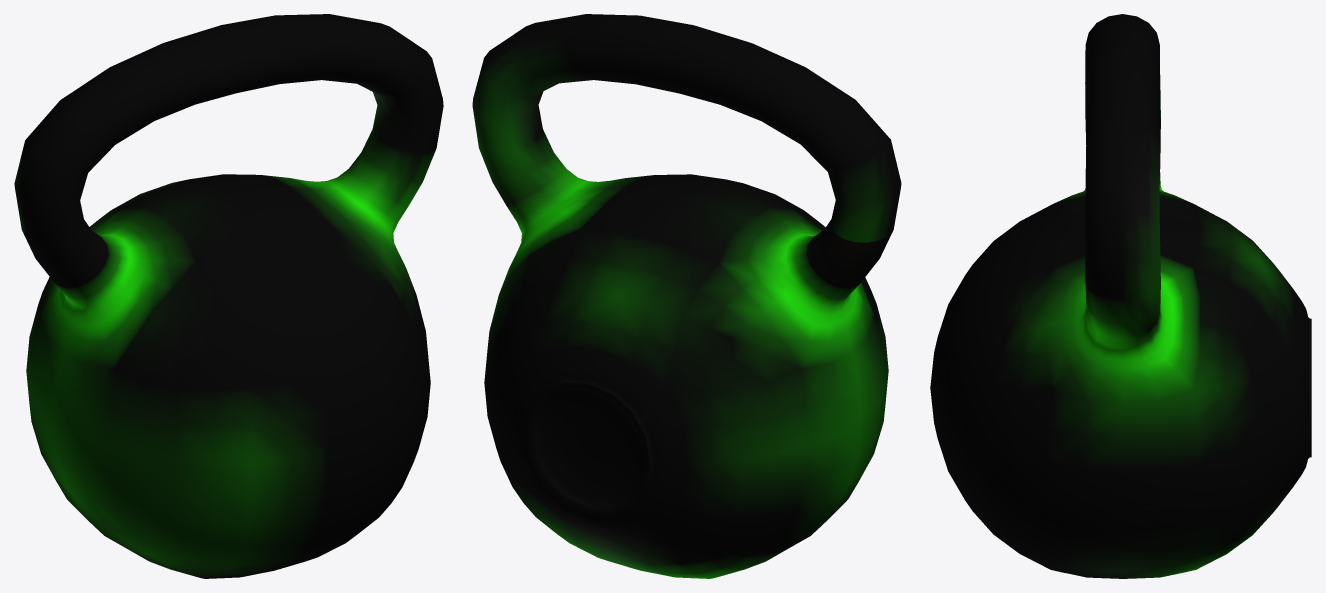
Rendered from Kettlebell.fbx.
3 renders of one model, left to right at view 1: azimuth 30°, elevation 25°; view 2: azimuth 150°, elevation 25°; view 3: azimuth 270°, elevation 25°, orthographic. The views are drawn at different scales.
Visible parts, largest first — view 1: Kettlebell 32kg/53Lbs.001; view 2: Kettlebell 32kg/53Lbs.001; view 3: Kettlebell 32kg/53Lbs.001.
Boxes of the visible parts, left/top/right/bottom form: Kettlebell 32kg/53Lbs.001: left=14, top=14, right=443, bottom=578; Kettlebell 32kg/53Lbs.001: left=472, top=14, right=901, bottom=578; Kettlebell 32kg/53Lbs.001: left=930, top=14, right=1311, bottom=578.
Bounding box in the file's own units: 22.34 × 26.34 × 18.44.
